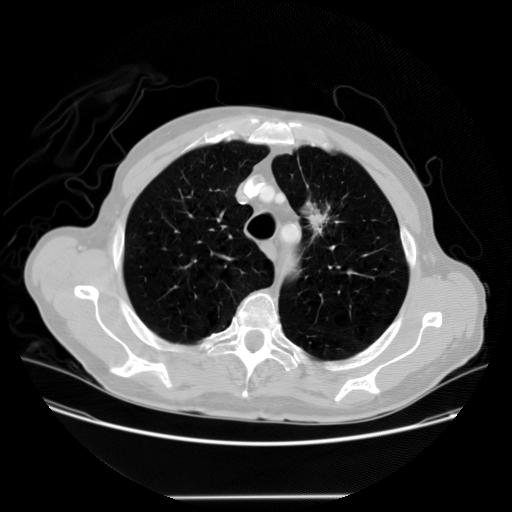nodule: (300, 201, 334, 235)
